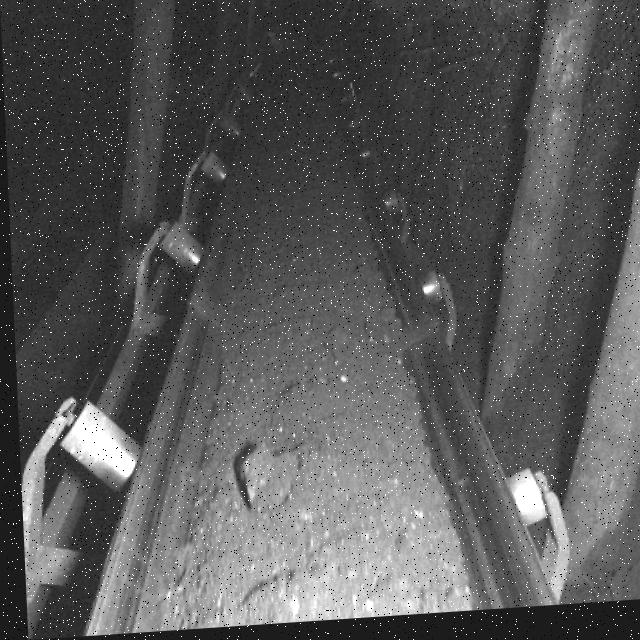large_sized_coal: (227, 444, 297, 515)
